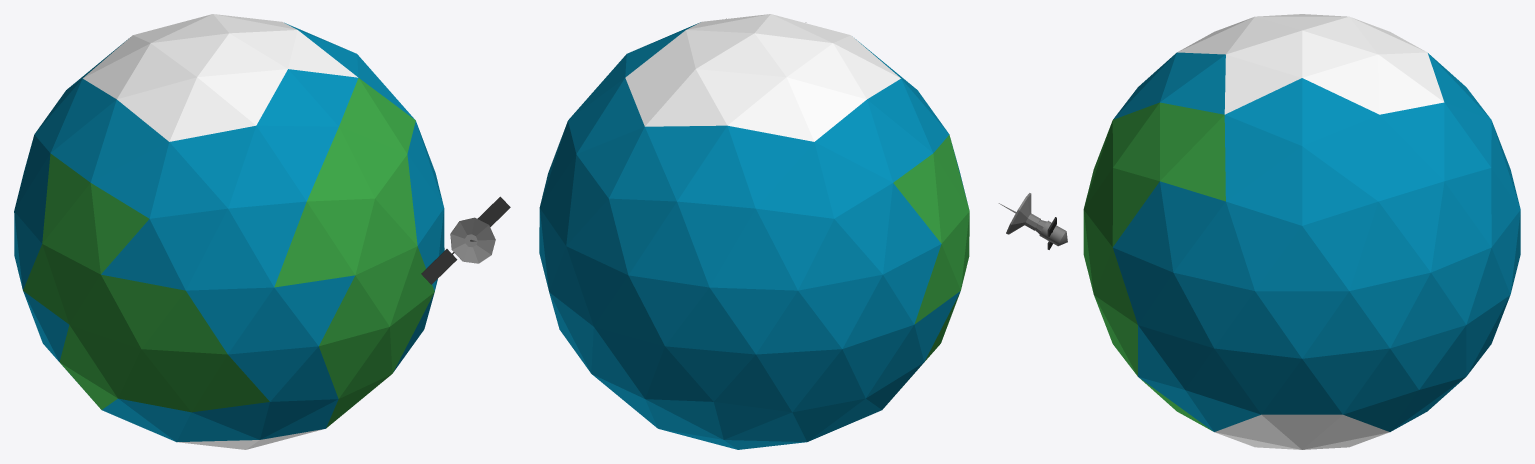
3 renders of one model, left to right at view 1: azimuth 30°, elevation 25°; view 2: azimuth 150°, elevation 25°; view 3: azimuth 270°, elevation 25°, orthographic.
Parts seen in each view (by area): view 1: GeoSphere002, Box004; view 2: GeoSphere002; view 3: GeoSphere002, Box004.
Boxes of the visible parts, x1=… form: GeoSphere002: x1=14, y1=14, x2=444, y2=449; Box004: x1=421, y1=196, x2=510, y2=284; GeoSphere002: x1=539, y1=14, x2=969, y2=449; GeoSphere002: x1=1083, y1=14, x2=1520, y2=449; Box004: x1=998, y1=193, x2=1067, y2=249.
Size of the model in its own units: 377 by 383 by 450.
